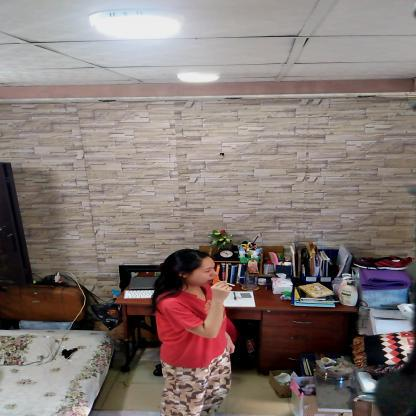cigarette: (225, 282, 236, 286)
person: (152, 248, 239, 415)
